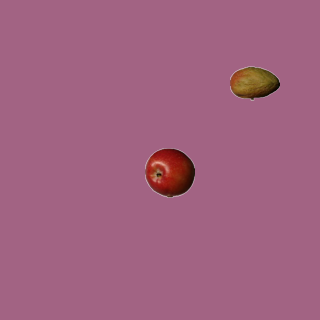Apple Braeburn: (144, 147, 194, 197)
Papaya: (229, 58, 279, 108)
